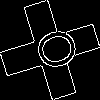O: (25, 25, 80, 76)
